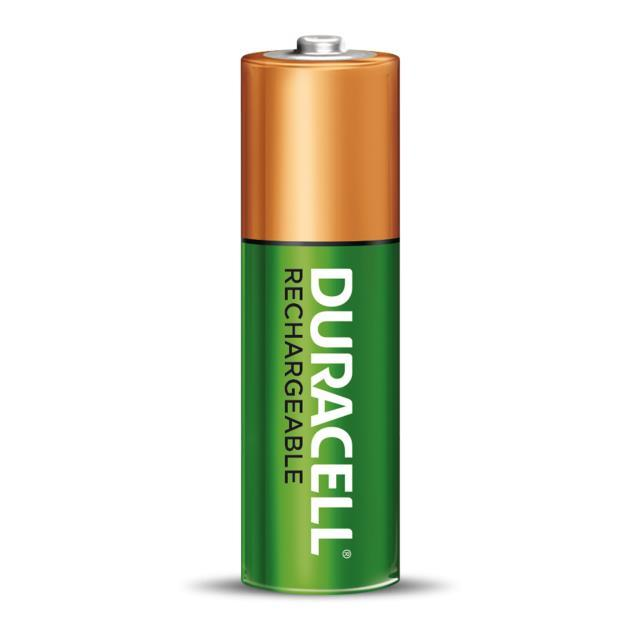battery: (188, 0, 510, 594)
